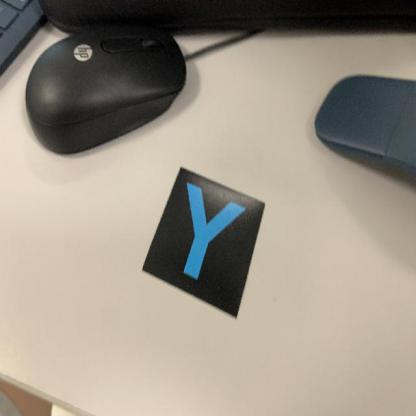y: (140, 164, 268, 322)
